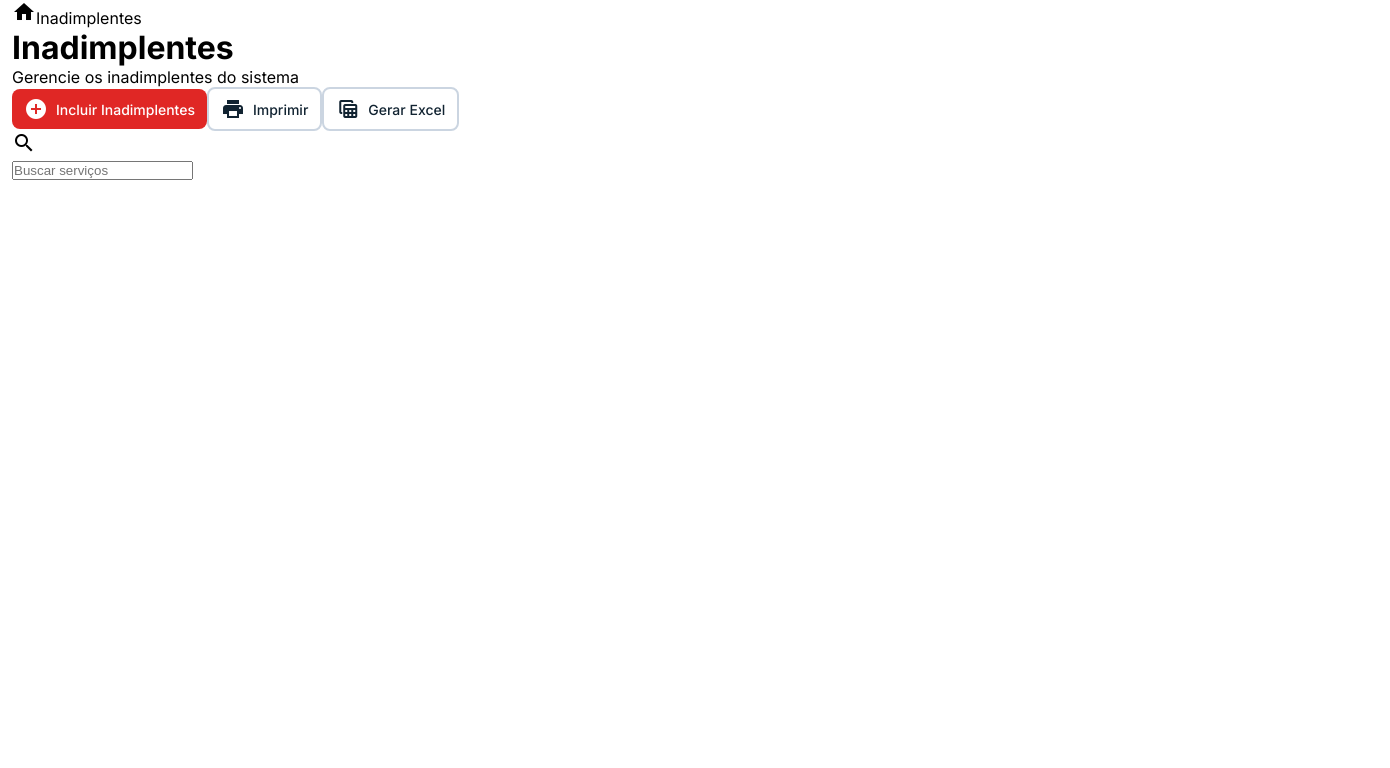
Test: InadimplentesHeader › When "Incluir Inadimplentes" is clicked, then opens modal
The width and height of the screenshot is (1390, 768).
What coordinates should you click on to do the following:
click the text "Incluir Inadimplentes"
I would click on:
 (126, 109)
Its box is [56,100,195,118].
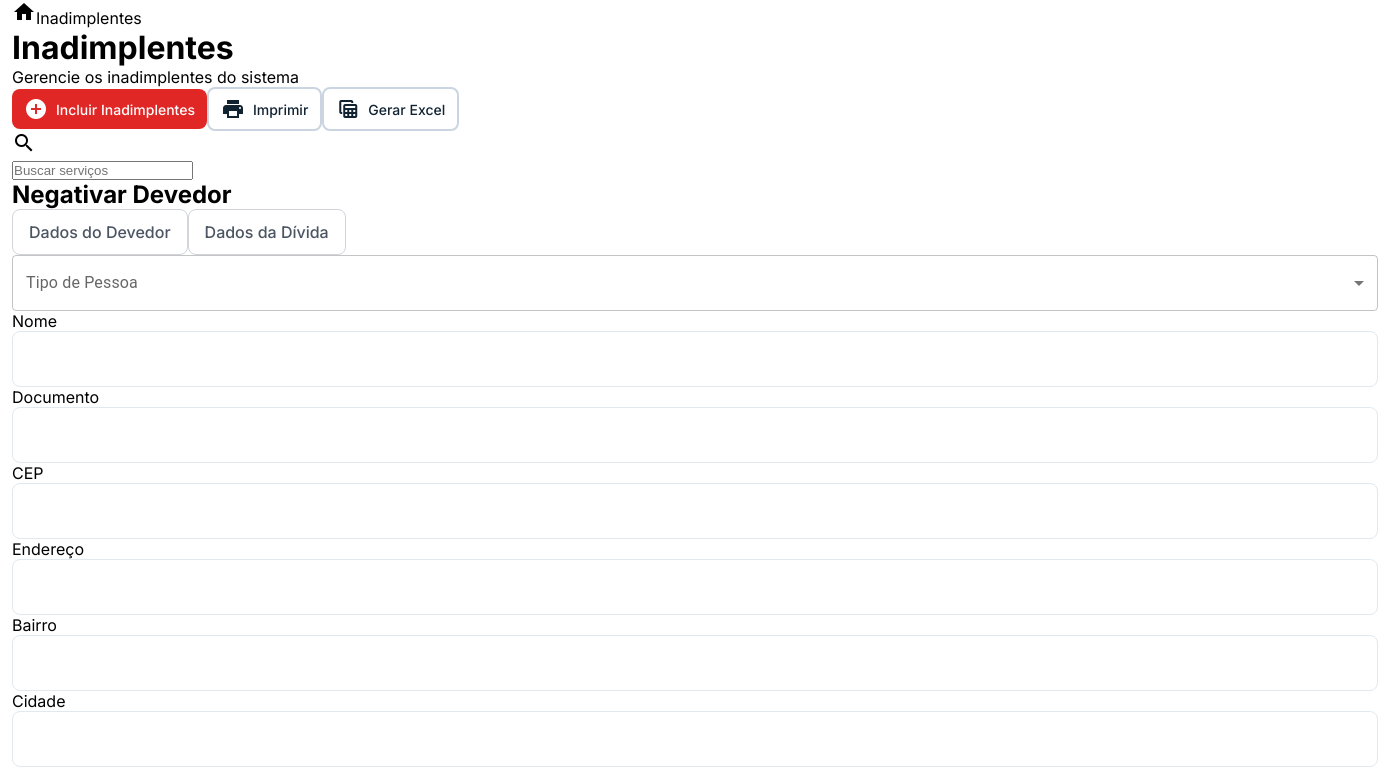
Expected: the heading "Negativar Devedor" is shown, [12,180,232,209]
Expected: the text "Dados do Devedor" is shown, [29,222,171,242]
Expected: the text "Dados da Dívida" is shown, [205,222,329,242]
